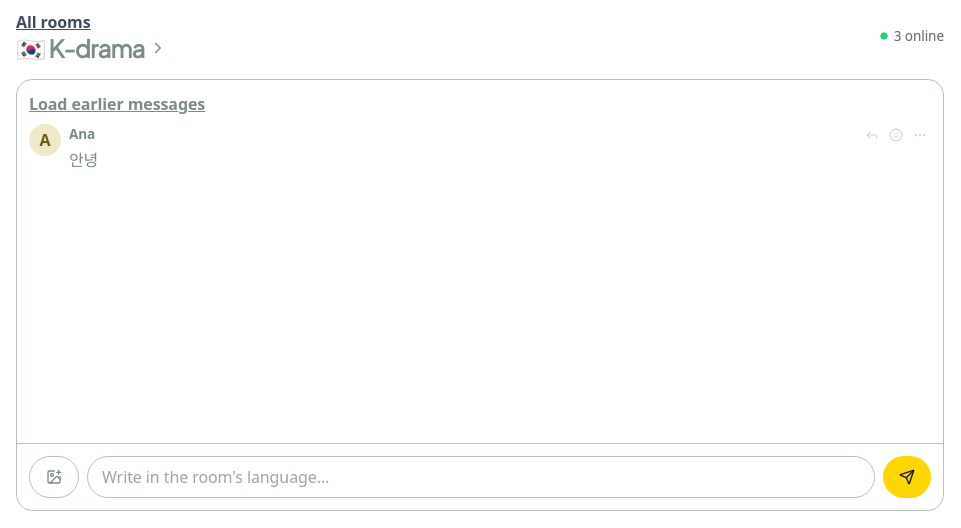
a moderator can delete anyone's message
Click the button with test id "language-room-more-m1". click: coordinates (920, 135)
box: [909,124,931,146]
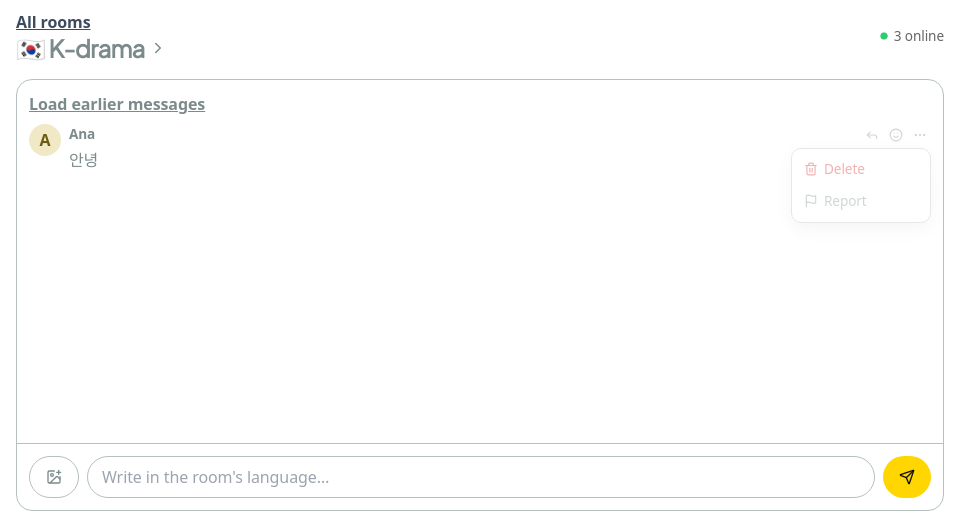
Expected: the menu item with test id "language-room-delete-m1" is shown, [796,153,926,185]
